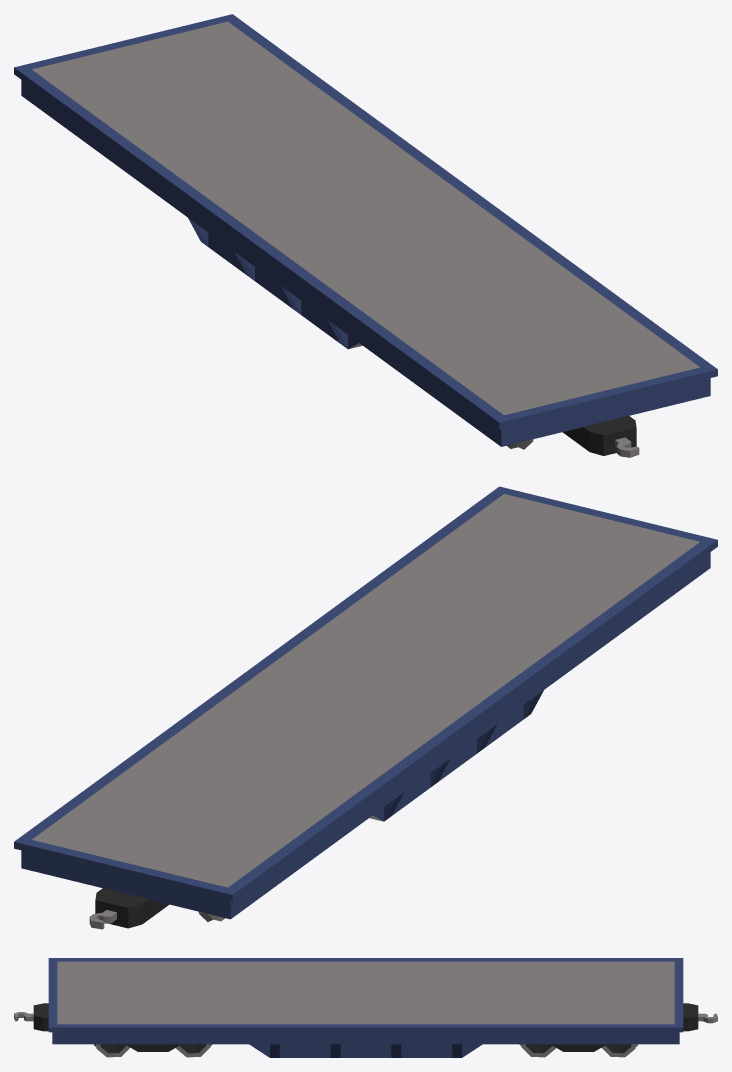
The model's file is train-wagon-cargo.glb.
3 renders of one model, top to bottom at view 1: azimuth 30°, elevation 25°; view 2: azimuth 150°, elevation 25°; view 3: azimuth 270°, elevation 25°, orthographic. The views are drawn at different scales.
Visible parts, largest first — view 1: train-wagon-cargo-base; view 2: train-wagon-cargo-base; view 3: train-wagon-cargo-base, train-wagon-cargo-wheel_B1, train-wagon-cargo-wheel_F2, train-wagon-cargo-wheel_B2, train-wagon-cargo-wheel_F1, train-wagon-cargo-frame_B, train-wagon-cargo-frame_F.
Boxes of the visible parts, <box> form: train-wagon-cargo-base: <box>14,14,717,457</box>; train-wagon-cargo-base: <box>14,486,717,929</box>; train-wagon-cargo-base: <box>14,958,717,1057</box>; train-wagon-cargo-wheel_B1: <box>519,1044,555,1057</box>; train-wagon-cargo-wheel_F2: <box>176,1044,212,1057</box>; train-wagon-cargo-wheel_B2: <box>601,1044,637,1057</box>; train-wagon-cargo-wheel_F1: <box>94,1044,130,1057</box>; train-wagon-cargo-frame_B: <box>550,1044,606,1051</box>; train-wagon-cargo-frame_F: <box>125,1044,181,1051</box>.
Size of the model in its own units: 3.34 by 1.11 by 14.26.
Materials: 1 (1 with a texture image).
